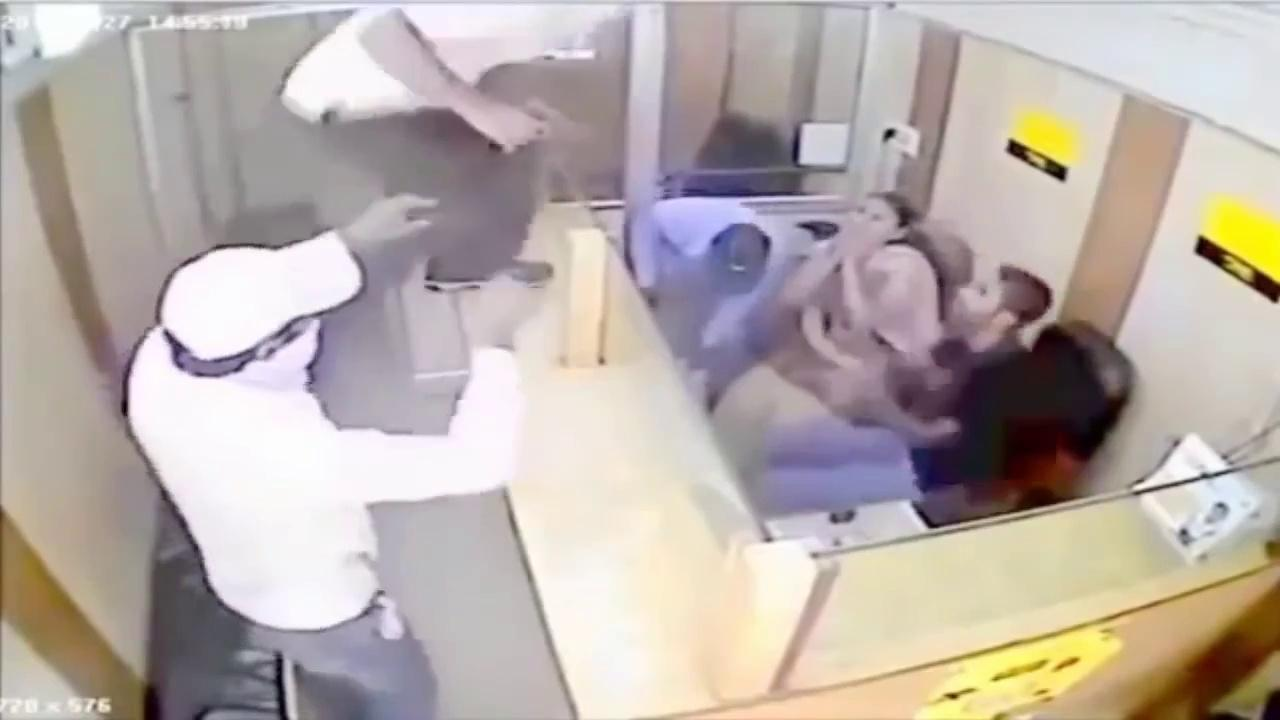weapon: (496, 92, 595, 159)
